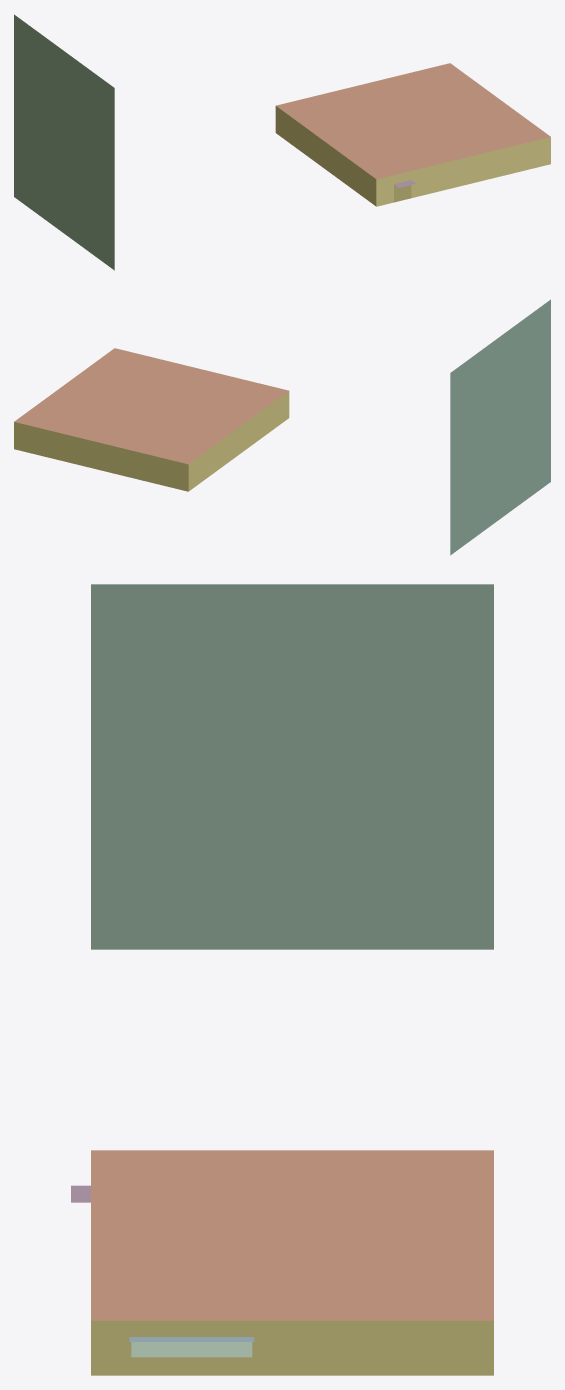
File: exampleModel.gltf
3 views of the same model, one above another, from view 1: azimuth 30°, elevation 25°; view 2: azimuth 150°, elevation 25°; view 3: azimuth 270°, elevation 25° (orthographic). The views are drawn at different scales.
Parts seen in each view (by area): view 1: Shading Surface 3, Surface 6, Surface 11, Surface 17, Surface 23, Surface 9, Surface 5, Surface 2, Surface 16; view 2: Shading Surface 3, Surface 17, Surface 23, Surface 6, Surface 11, Surface 20, Surface 14, Surface 16, Surface 2; view 3: Shading Surface 3, Surface 6, Surface 11, Surface 17, Surface 23, Surface 24, Surface 12, Sub Surface 2, Surface 7.
Part boxes in pixels (x1,y1,x2,y2): Shading Surface 3: [14, 14, 114, 270]; Surface 6: [326, 121, 463, 179]; Surface 11: [413, 100, 550, 157]; Surface 17: [276, 84, 412, 142]; Surface 23: [363, 63, 499, 120]; Surface 9: [463, 137, 550, 185]; Surface 5: [376, 158, 463, 206]; Surface 2: [326, 142, 376, 206]; Surface 16: [275, 106, 325, 169]; Shading Surface 3: [450, 299, 550, 555]; Surface 17: [101, 406, 238, 464]; Surface 23: [14, 385, 151, 442]; Surface 6: [152, 369, 288, 427]; Surface 11: [65, 348, 201, 405]; Surface 20: [14, 422, 101, 470]; Surface 14: [101, 443, 188, 491]; Surface 16: [188, 427, 238, 491]; Surface 2: [239, 391, 289, 454]; Shading Surface 3: [91, 584, 493, 949]; Surface 6: [91, 1150, 292, 1235]; Surface 11: [91, 1235, 292, 1320]; Surface 17: [292, 1150, 493, 1235]; Surface 23: [292, 1235, 493, 1320]; Surface 24: [292, 1320, 493, 1375]; Surface 12: [91, 1320, 292, 1375]; Sub Surface 2: [131, 1342, 252, 1357]; Surface 7: [131, 1342, 251, 1356].
Size of the model in its own units: 50.55 by 20 by 21.
